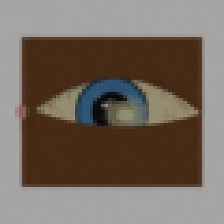corneal_ulcer: (97, 93, 151, 136)
